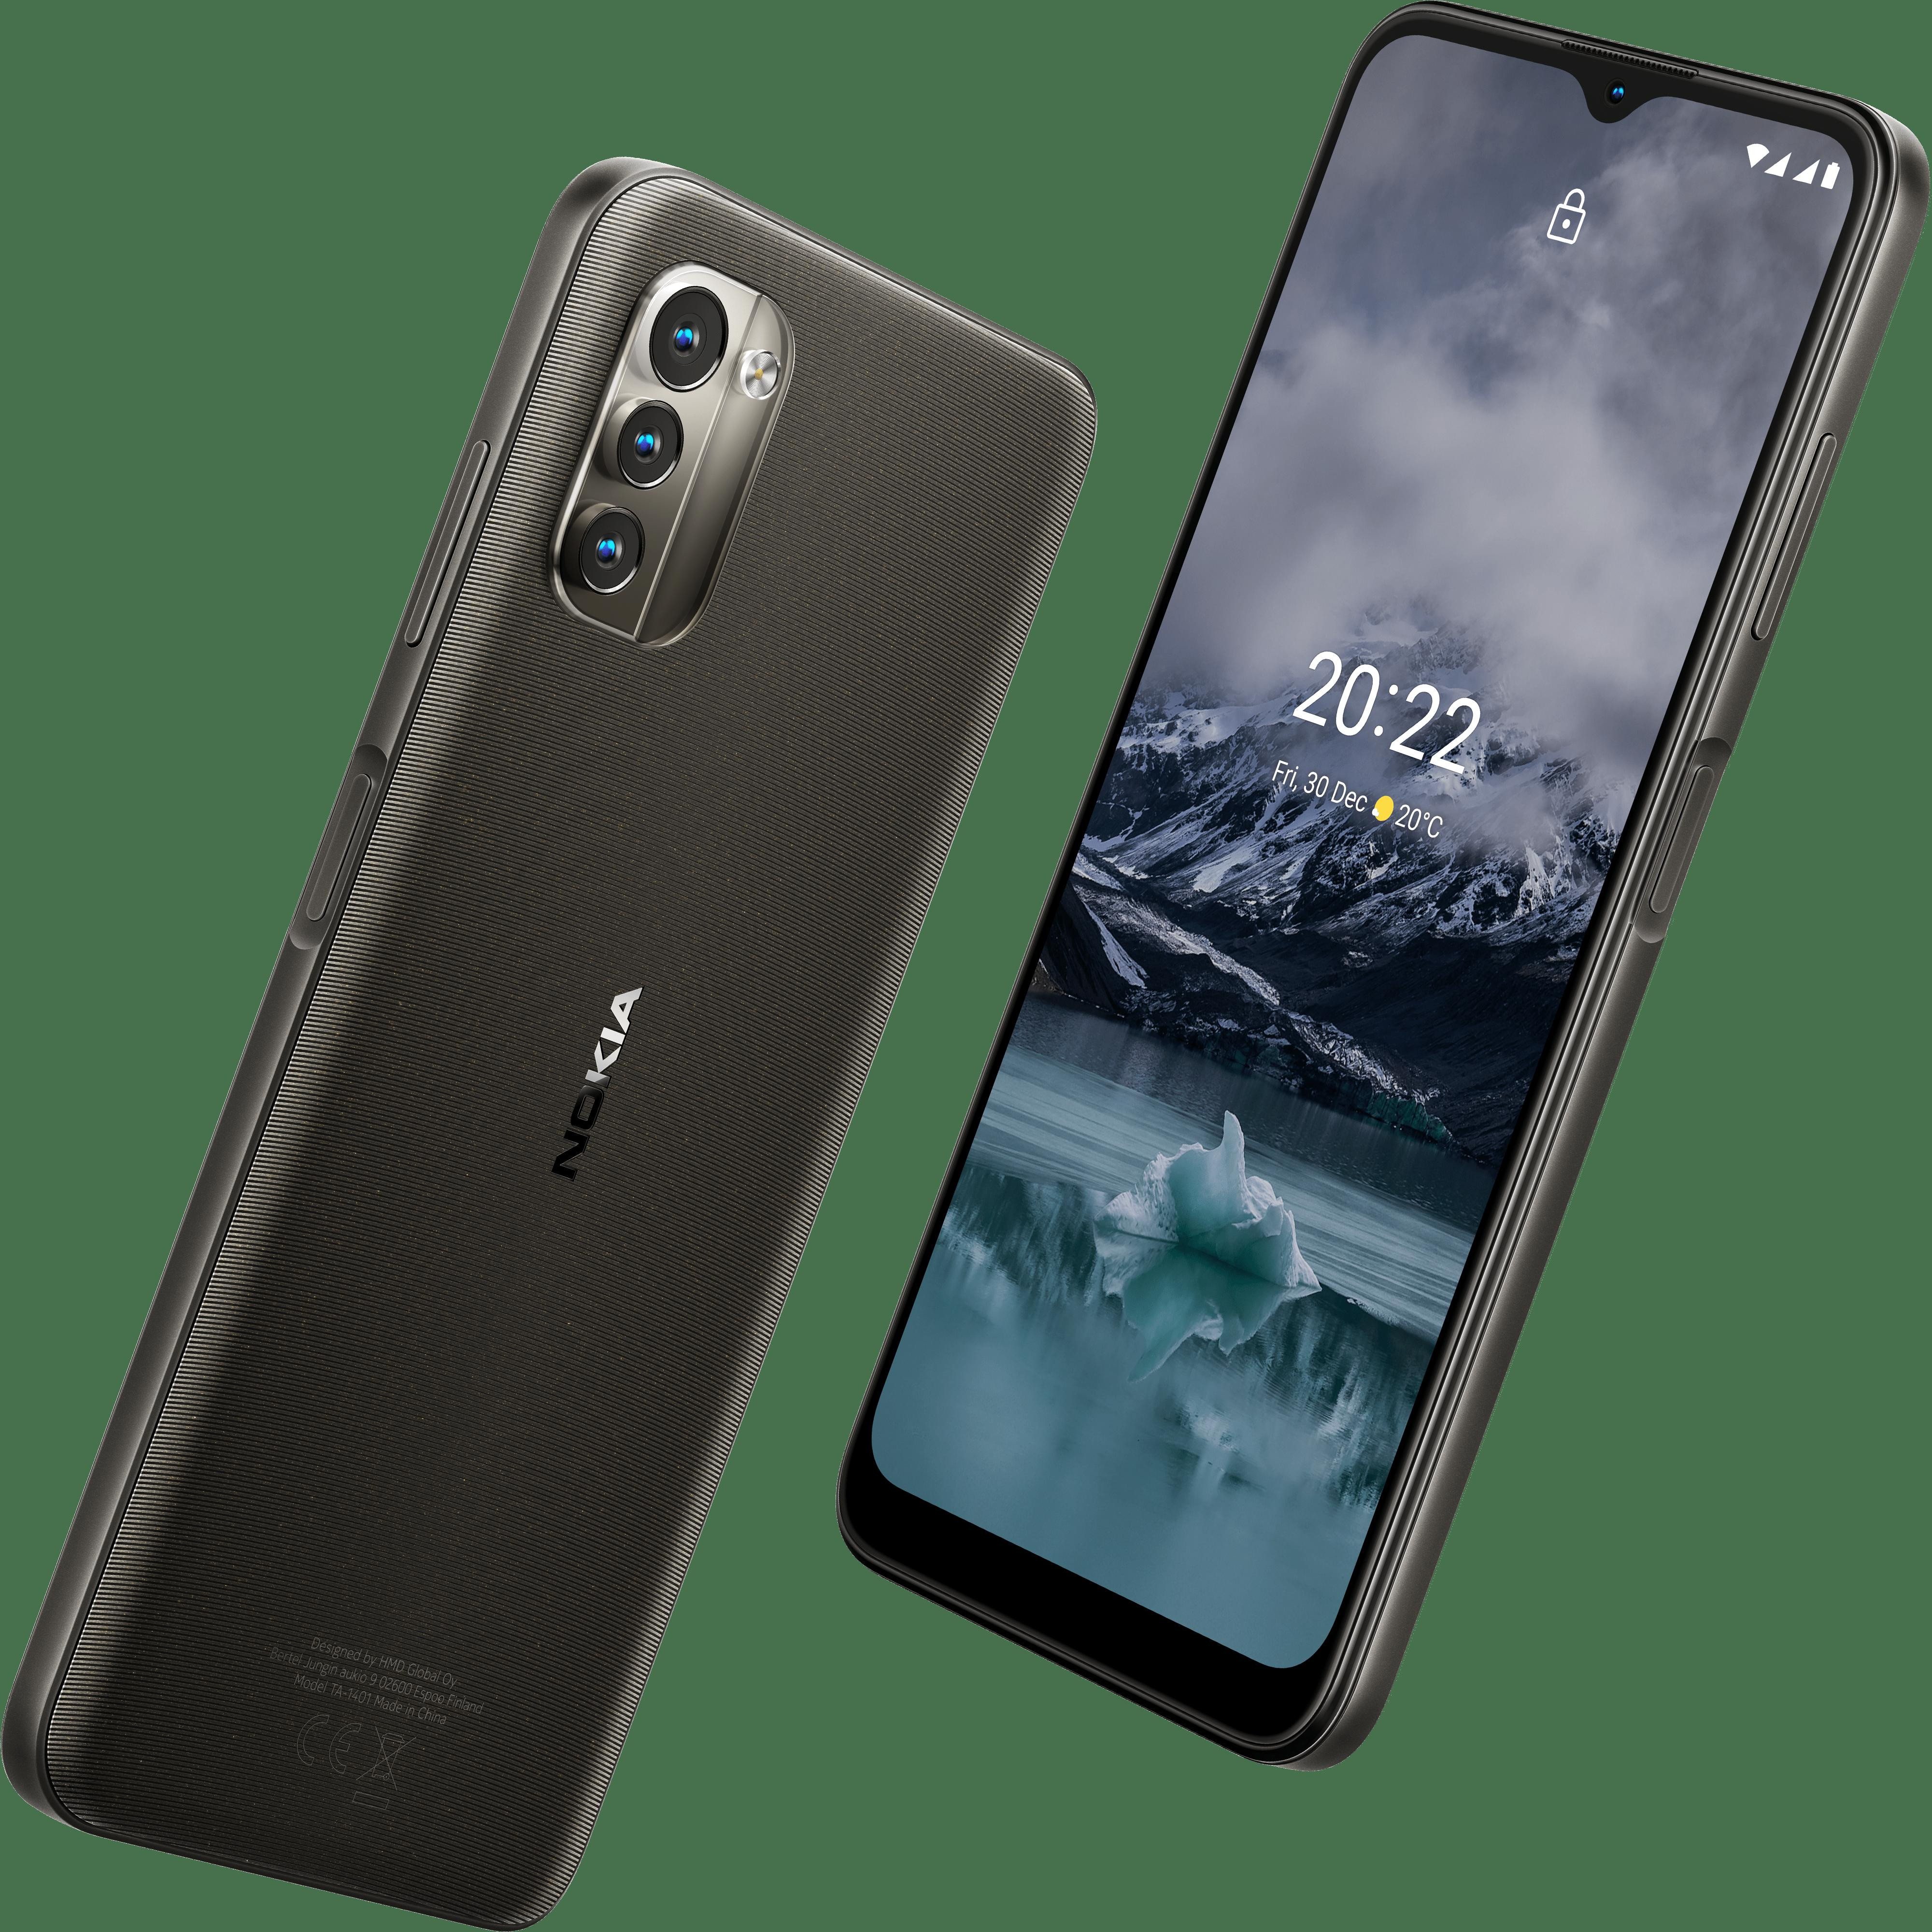Smartphone: (0, 143, 1090, 1904), (860, 0, 1911, 1812)
